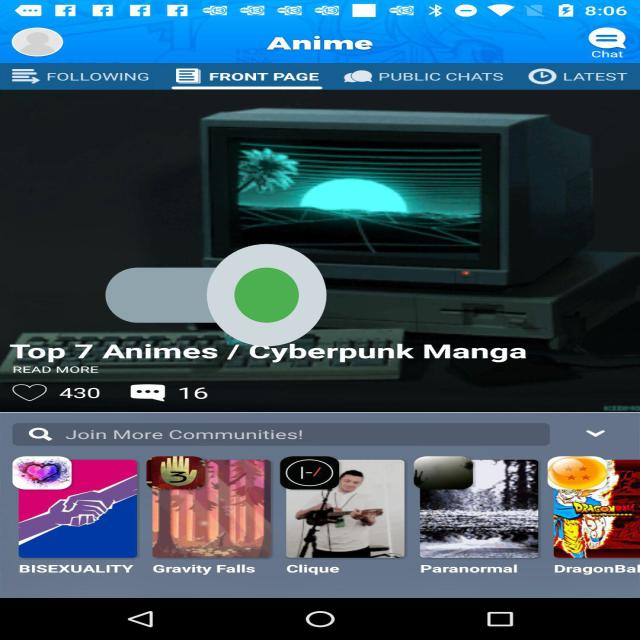social proof: (106, 200, 327, 390)
